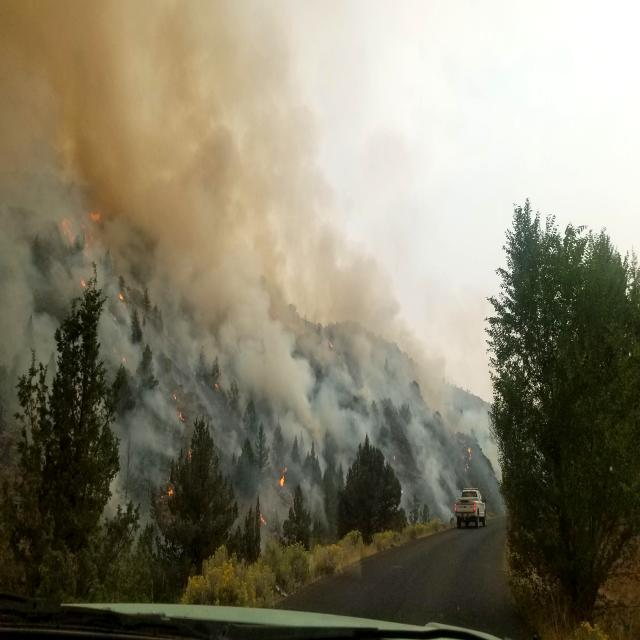Smoke: (11, 0, 496, 508)
